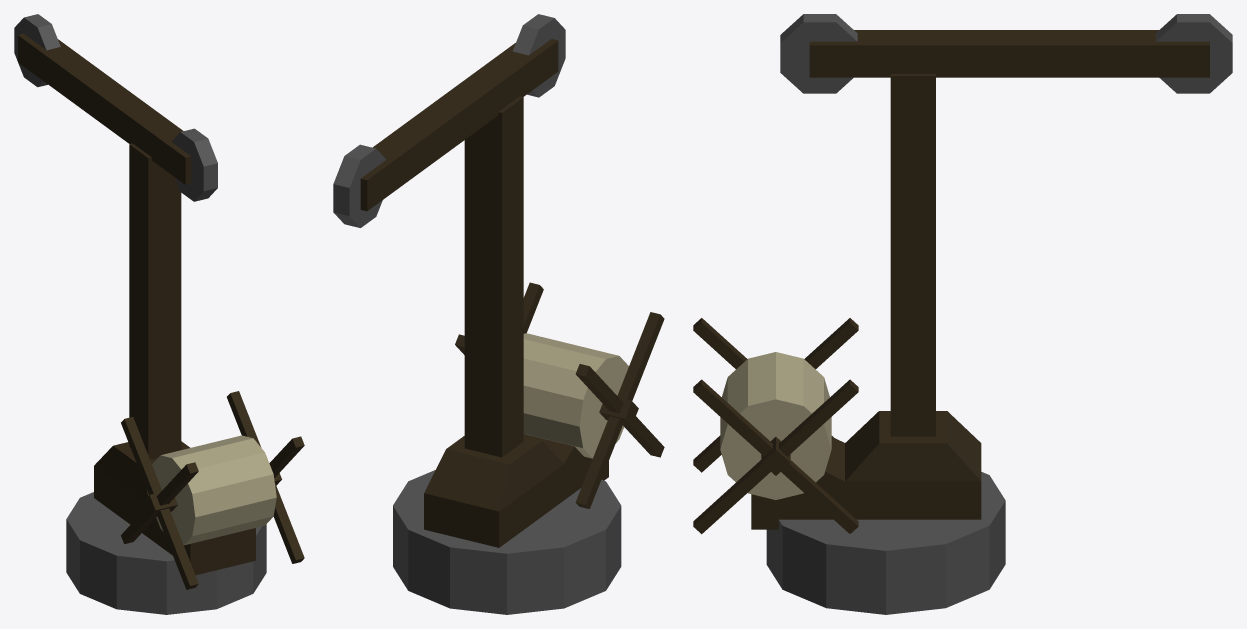
Rendered from Dock Crane base.fbx.
3 renders of one model, left to right at view 1: azimuth 30°, elevation 25°; view 2: azimuth 150°, elevation 25°; view 3: azimuth 270°, elevation 25°, orthographic. The views are drawn at different scales.
Visible parts, largest first — view 1: Cube.011, Cylinder.011, Cylinder.010; view 2: Cube.011, Cylinder.011, Cylinder.010; view 3: Cube.011, Cylinder.011, Cylinder.010.
Part boxes in pixels (<box>): Cube.011: <box>18,33,304,589</box>; Cylinder.011: <box>14,14,266,614</box>; Cylinder.010: <box>152,435,276,545</box>; Cube.011: <box>360,39,664,547</box>; Cylinder.011: <box>333,14,621,614</box>; Cylinder.010: <box>523,333,628,458</box>; Cube.011: <box>693,30,1209,534</box>; Cylinder.011: <box>766,14,1232,614</box>; Cylinder.010: <box>720,352,831,499</box>.
Bounding box in the file's own units: 1.85 × 4.67 × 4.18.
